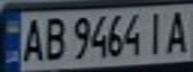4: (124, 10, 148, 56), (90, 11, 109, 60)
6: (106, 11, 127, 58)
9: (69, 14, 93, 61)
A: (163, 7, 193, 54), (18, 15, 45, 63)
B: (39, 14, 69, 63)
I: (142, 8, 169, 56)
